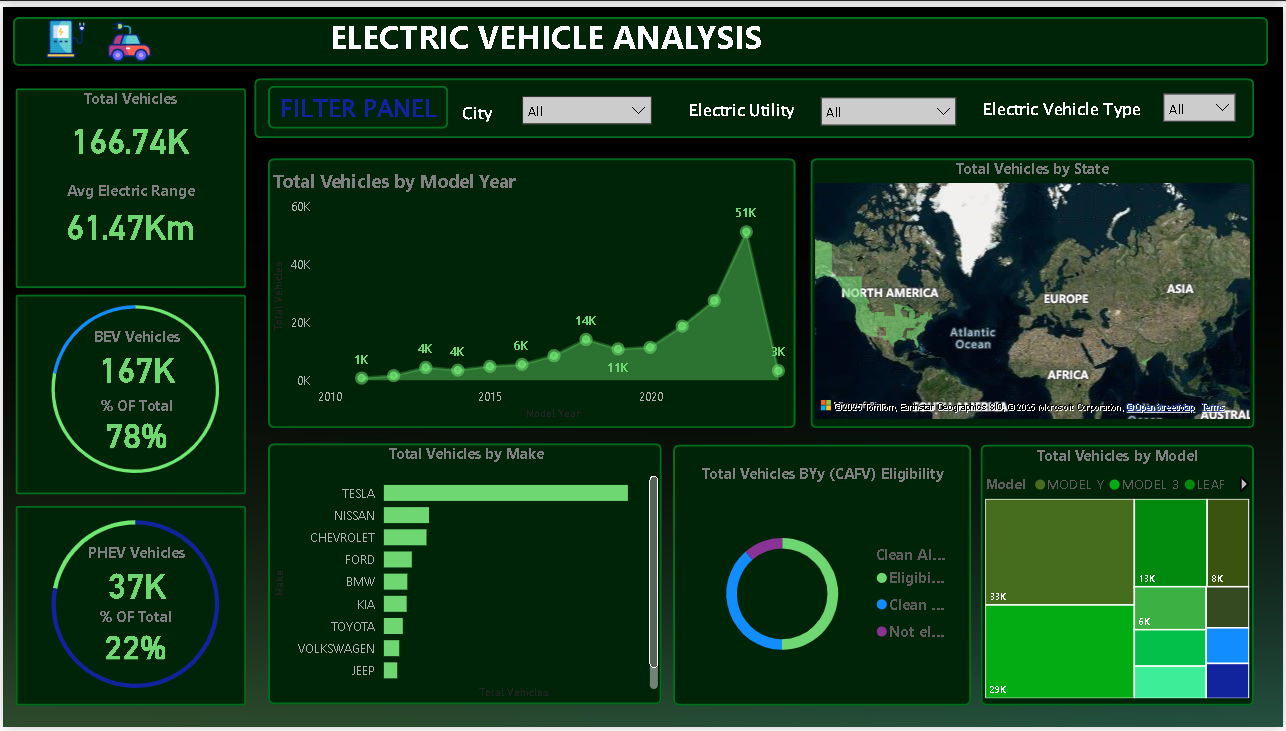

What the dashboard file says about the page in this screenshot:
{"tool":"powerbi","page":{"name":"Page 1","canvas":[1280,720],"ordinal":0},"visuals":[{"type":"shape","box":[9.8,9.8,1255.2,49.1],"z":0},{"type":"textbox","box":[40.5,2.5,752.2,62.6],"z":1000},{"type":"shape","box":[12.3,81,230.7,200],"z":2000},{"type":"card","title":"Total Vehicles","fields":{"Values":["Electric_Vehicle_Population_Data.Total Vehicles"]},"box":[27,81,200,79.8],"z":3000},{"type":"card","title":"Avg Electric Range","fields":{"Values":["Electric_Vehicle_Population_Data.Average Range"]},"box":[27,173,200,69.9],"z":4000},{"type":"shape","box":[12.3,287.1,230.7,200],"z":5000},{"type":"shape","box":[12.3,498.2,230.7,200],"z":6000},{"type":"donutChart","fields":{"Category":["Electric_Vehicle_Population_Data.Electric Vehicle Type"],"Y":["Electric_Vehicle_Population_Data.Total Vehicles"]},"box":[0,272.4,265,219.6],"z":7000},{"type":"card","title":"BEV Vehicles","fields":{"Values":["Electric_Vehicle_Population_Data.Total Vehicles"]},"box":[73.6,319,120.2,63.8],"z":8000},{"type":"card","title":"% OF Total","fields":{"Values":["Electric_Vehicle_Population_Data.% of BEV"]},"box":[88.3,387.7,89.6,58.9],"z":9000},{"type":"card","title":"% OF Total","fields":{"Values":["Electric_Vehicle_Population_Data.% of PHEV"]},"box":[87.1,598.8,89.6,58.9],"z":10000},{"type":"card","title":"PHEV Vehicles","fields":{"Values":["Electric_Vehicle_Population_Data.PHEV Vehicles"]},"box":[73.6,535,120.2,63.8],"z":11000},{"type":"donutChart","fields":{"Category":["Electric_Vehicle_Population_Data.Electric Vehicle Type"],"Y":["Electric_Vehicle_Population_Data.Total Vehicles"]},"box":[0,487.1,265,219.6],"z":12000},{"type":"shape","title":"Filter Panel","box":[251.5,71.2,1000,60.1],"z":13000},{"type":"shape","box":[265,150.9,527.6,269.9],"z":14000},{"type":"areaChart","fields":{"Category":["Electric_Vehicle_Population_Data.Model Year"],"Y":["Electric_Vehicle_Population_Data.Total Vehicles"]},"box":[265,160.7,527.6,256.4],"z":15000},{"type":"shape","box":[807.4,150.9,444.2,269.9],"z":16000},{"type":"filledMap","fields":{"Category":["Electric_Vehicle_Population_Data.State"]},"box":[807.4,150.9,444.2,266.3],"z":17000},{"type":"shape","box":[265,436.8,393.9,261.4],"z":18000},{"type":"shape","box":[669.9,438,298.2,261.4],"z":19000},{"type":"barChart","fields":{"Category":["Electric_Vehicle_Population_Data.Make"],"Y":["Electric_Vehicle_Population_Data.Total Vehicles"]},"box":[266.2,436.4,393.8,260.7],"z":20000},{"type":"shape","box":[977.9,438,273.6,261.4],"z":21000},{"type":"donutChart","title":"Total Vehicles  BYy (CAFV) Eligibility","fields":{"Category":["Electric_Vehicle_Population_Data.Clean Alternative Fuel Vehicle (CAFV) Eligibility"],"Y":["Electric_Vehicle_Population_Data.Total Vehicles"]},"box":[681,456.4,277.3,241.7],"z":22000},{"type":"treemap","fields":{"Group":["Electric_Vehicle_Population_Data.Model"],"Values":["Electric_Vehicle_Population_Data.Total Vehicles"]},"box":[977.9,438,273.6,258.9],"z":23000},{"type":"shape","title":"Filter Panel","box":[265,78.5,180.4,42.9],"z":24000},{"type":"slicer","fields":{"Values":["Electric_Vehicle_Population_Data.City"]},"box":[509.2,78.5,149.7,42.9],"z":24001},{"type":"shape","title":"Filter Panel","box":[445.4,87.1,57.7,35.6],"z":24002},{"type":"shape","title":"Filter Panel","box":[669.9,83.4,137.4,38],"z":24004},{"type":"shape","title":"Filter Panel","box":[977.9,81,163.2,40.5],"z":24005},{"type":"slicer","fields":{"Values":["Electric_Vehicle_Population_Data.Electric Utility"]},"box":[807.4,79.8,155.8,41.7],"z":24006},{"type":"slicer","fields":{"Values":["Electric_Vehicle_Population_Data.Electric Vehicle Type"]},"box":[1149.7,76.1,92,46.6],"z":24007},{"type":"image","box":[100.6,3.7,52.8,62.6],"z":24008},{"type":"image","box":[39.3,3.7,47.9,55.2],"z":24009}]}

Visuals, with their boxes in screenshot pixels (x1, y1, x2, y2), scaled from the page's 1280x720 canvas onto the 1286x731 screenshot:
shape: l=10, t=10, r=1271, b=60
textbox: l=41, t=3, r=796, b=66
shape: l=12, t=82, r=244, b=285
"Total Vehicles" card: l=27, t=82, r=228, b=163
"Avg Electric Range" card: l=27, t=176, r=228, b=247
shape: l=12, t=291, r=244, b=495
shape: l=12, t=506, r=244, b=709
donutChart - Electric_Vehicle_Population_Data.Electric Vehicle Type x Electric_Vehicle_Population_Data.Total Vehicles: l=0, t=277, r=266, b=500
"BEV Vehicles" card: l=74, t=324, r=195, b=389
"% OF Total" card: l=89, t=394, r=179, b=453
"% OF Total" card: l=88, t=608, r=178, b=668
"PHEV Vehicles" card: l=74, t=543, r=195, b=608
donutChart - Electric_Vehicle_Population_Data.Electric Vehicle Type x Electric_Vehicle_Population_Data.Total Vehicles: l=0, t=495, r=266, b=717
"Filter Panel" shape: l=253, t=72, r=1257, b=133
shape: l=266, t=153, r=796, b=427
areaChart - Electric_Vehicle_Population_Data.Model Year x Electric_Vehicle_Population_Data.Total Vehicles: l=266, t=163, r=796, b=423
shape: l=811, t=153, r=1257, b=427
filledMap - Electric_Vehicle_Population_Data.State: l=811, t=153, r=1257, b=424
shape: l=266, t=443, r=662, b=709
shape: l=673, t=445, r=973, b=710
barChart - Electric_Vehicle_Population_Data.Make x Electric_Vehicle_Population_Data.Total Vehicles: l=267, t=443, r=663, b=708
shape: l=982, t=445, r=1257, b=710
"Total Vehicles  BYy (CAFV) Eligibility" donutChart: l=684, t=463, r=963, b=709
treemap - Electric_Vehicle_Population_Data.Model x Electric_Vehicle_Population_Data.Total Vehicles: l=982, t=445, r=1257, b=708
"Filter Panel" shape: l=266, t=80, r=447, b=123
slicer - Electric_Vehicle_Population_Data.City: l=512, t=80, r=662, b=123
"Filter Panel" shape: l=447, t=88, r=505, b=125
"Filter Panel" shape: l=673, t=85, r=811, b=123
"Filter Panel" shape: l=982, t=82, r=1146, b=123
slicer - Electric_Vehicle_Population_Data.Electric Utility: l=811, t=81, r=968, b=123
slicer - Electric_Vehicle_Population_Data.Electric Vehicle Type: l=1155, t=77, r=1248, b=125
image: l=101, t=4, r=154, b=67
image: l=39, t=4, r=88, b=60
